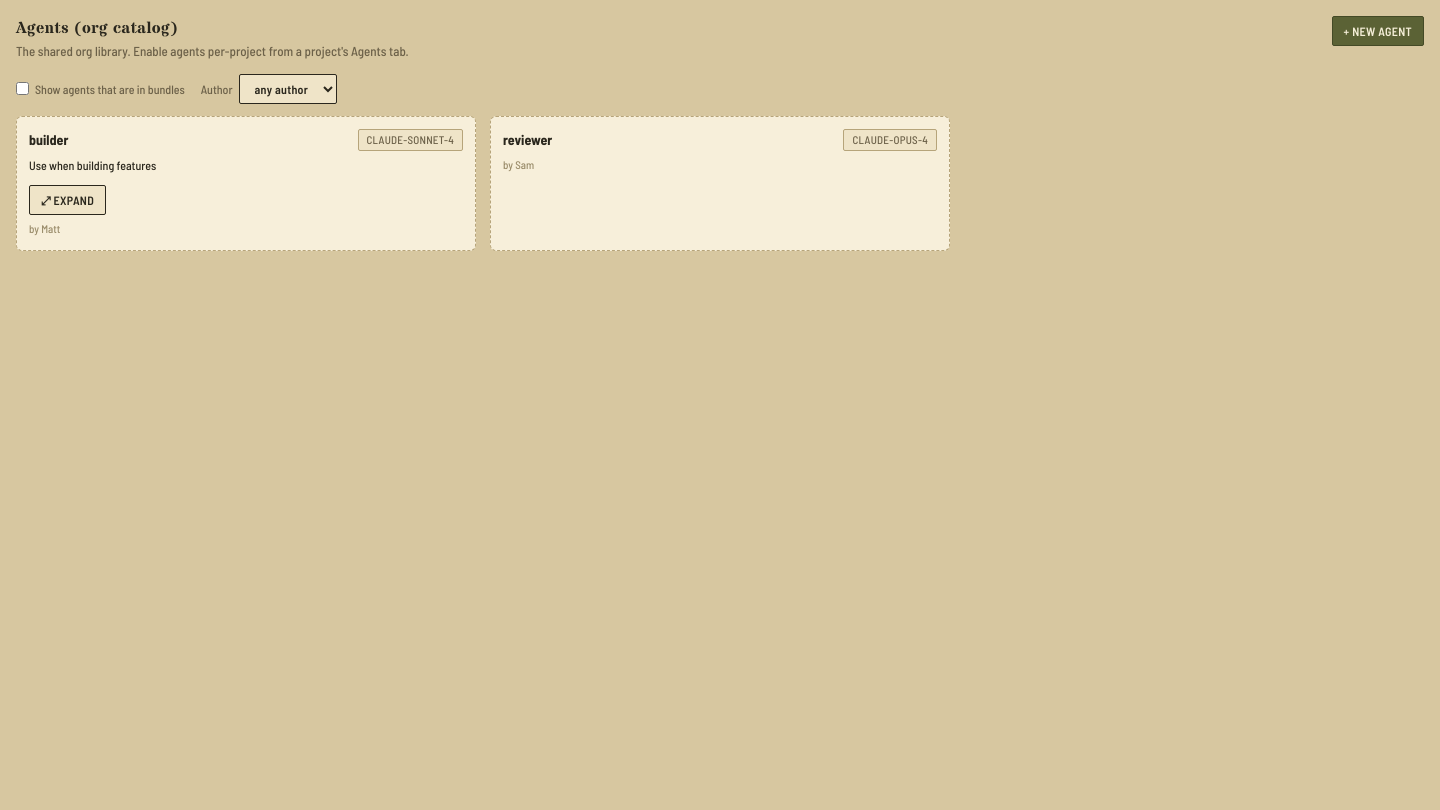
Agents org catalog (collapsed model) › expands to show skills, MCP servers, tools, and the prompt
The image size is (1440, 810).
Check: the element with test id "agent-card-builder" is shown, box [16,116,476,250]
Click the button with test id "agent-expand-builder". click: coordinates (68, 200)
box: [29,185,106,215]
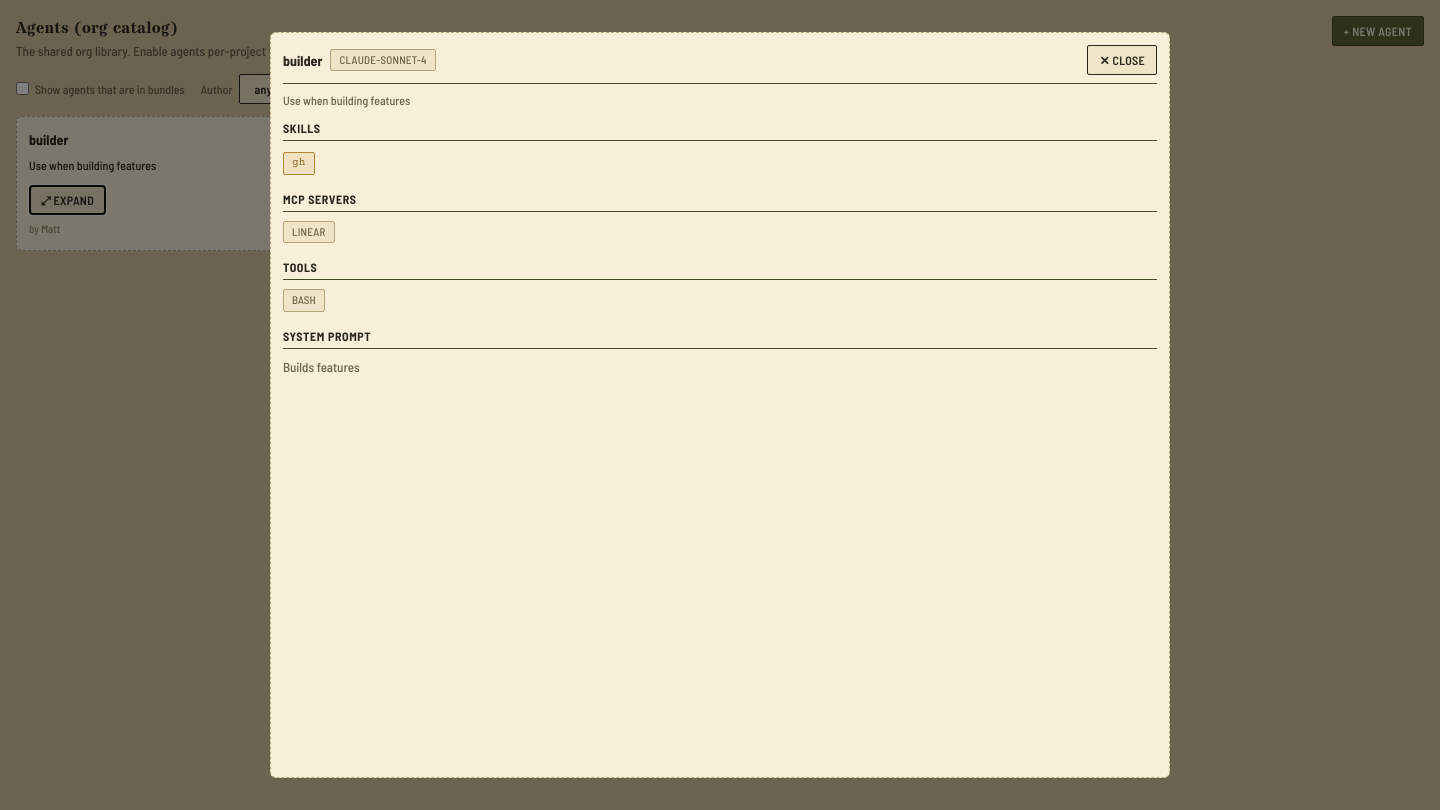
Check: the dialog with test id "agent-modal-builder" is shown
Check: the element with test id "agent-skills-builder" shows "gh", box [292,156,306,169]
Check: the element with test id "agent-mcp-builder" shows "linear", box [292,224,326,238]
Click the button with test id "agent-modal-close-builder". click: coordinates (1122, 60)
box: [1087,45,1157,75]
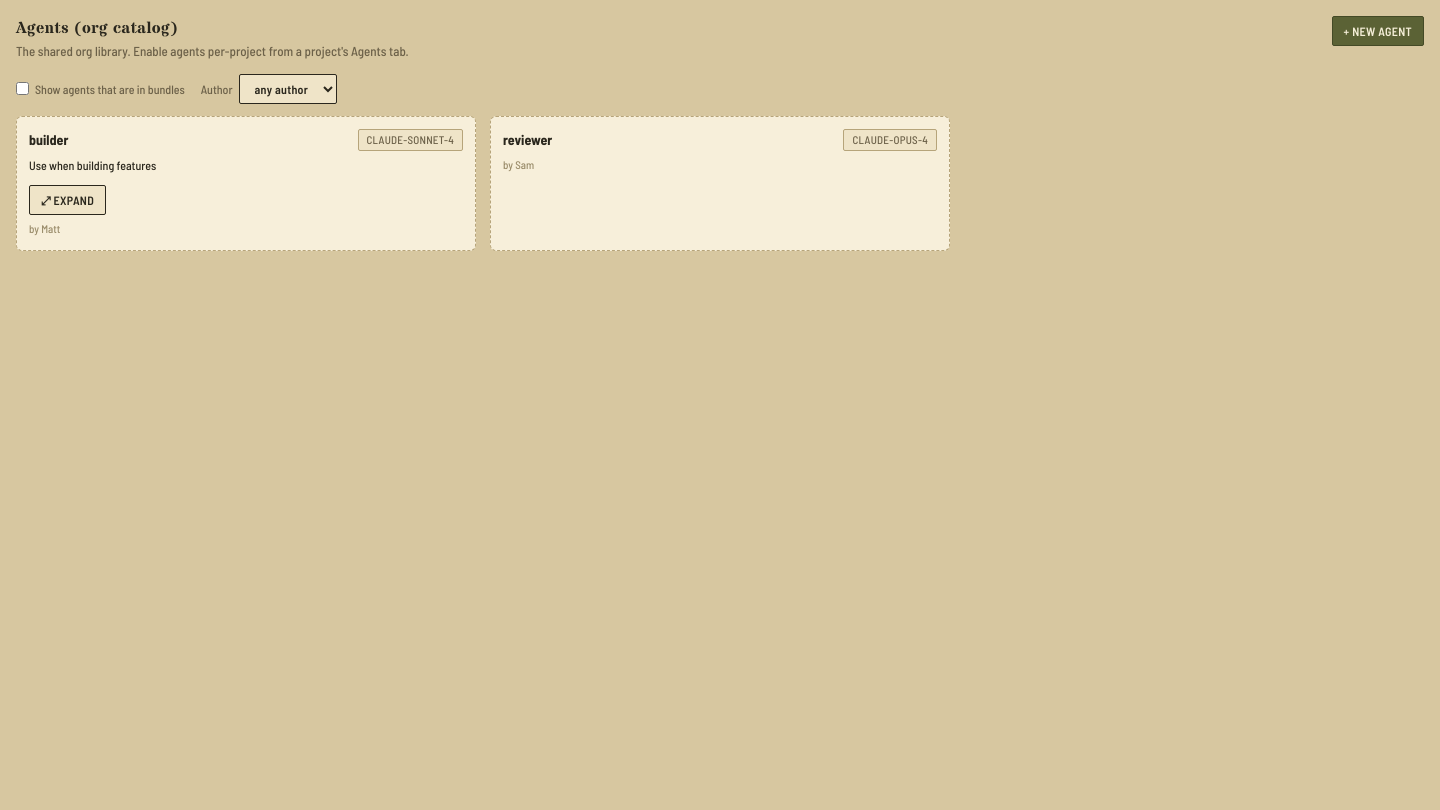
Check: the dialog with test id "agent-modal-builder" is gone
